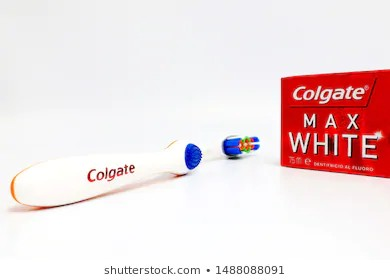toothbrush: (1, 129, 264, 214)
